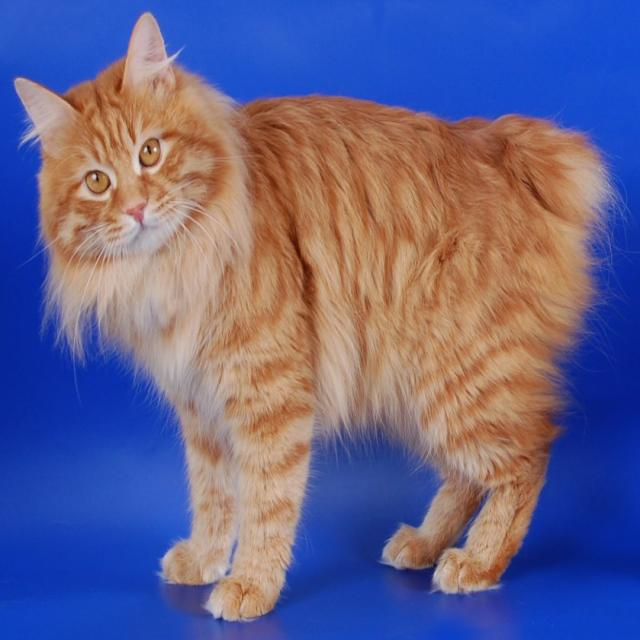American Bobtail: (11, 8, 616, 624)
